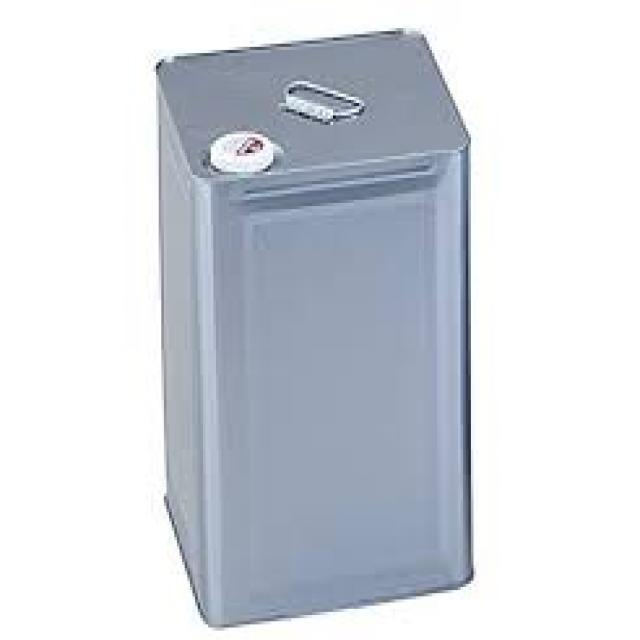recyclable: (156, 28, 476, 632)
